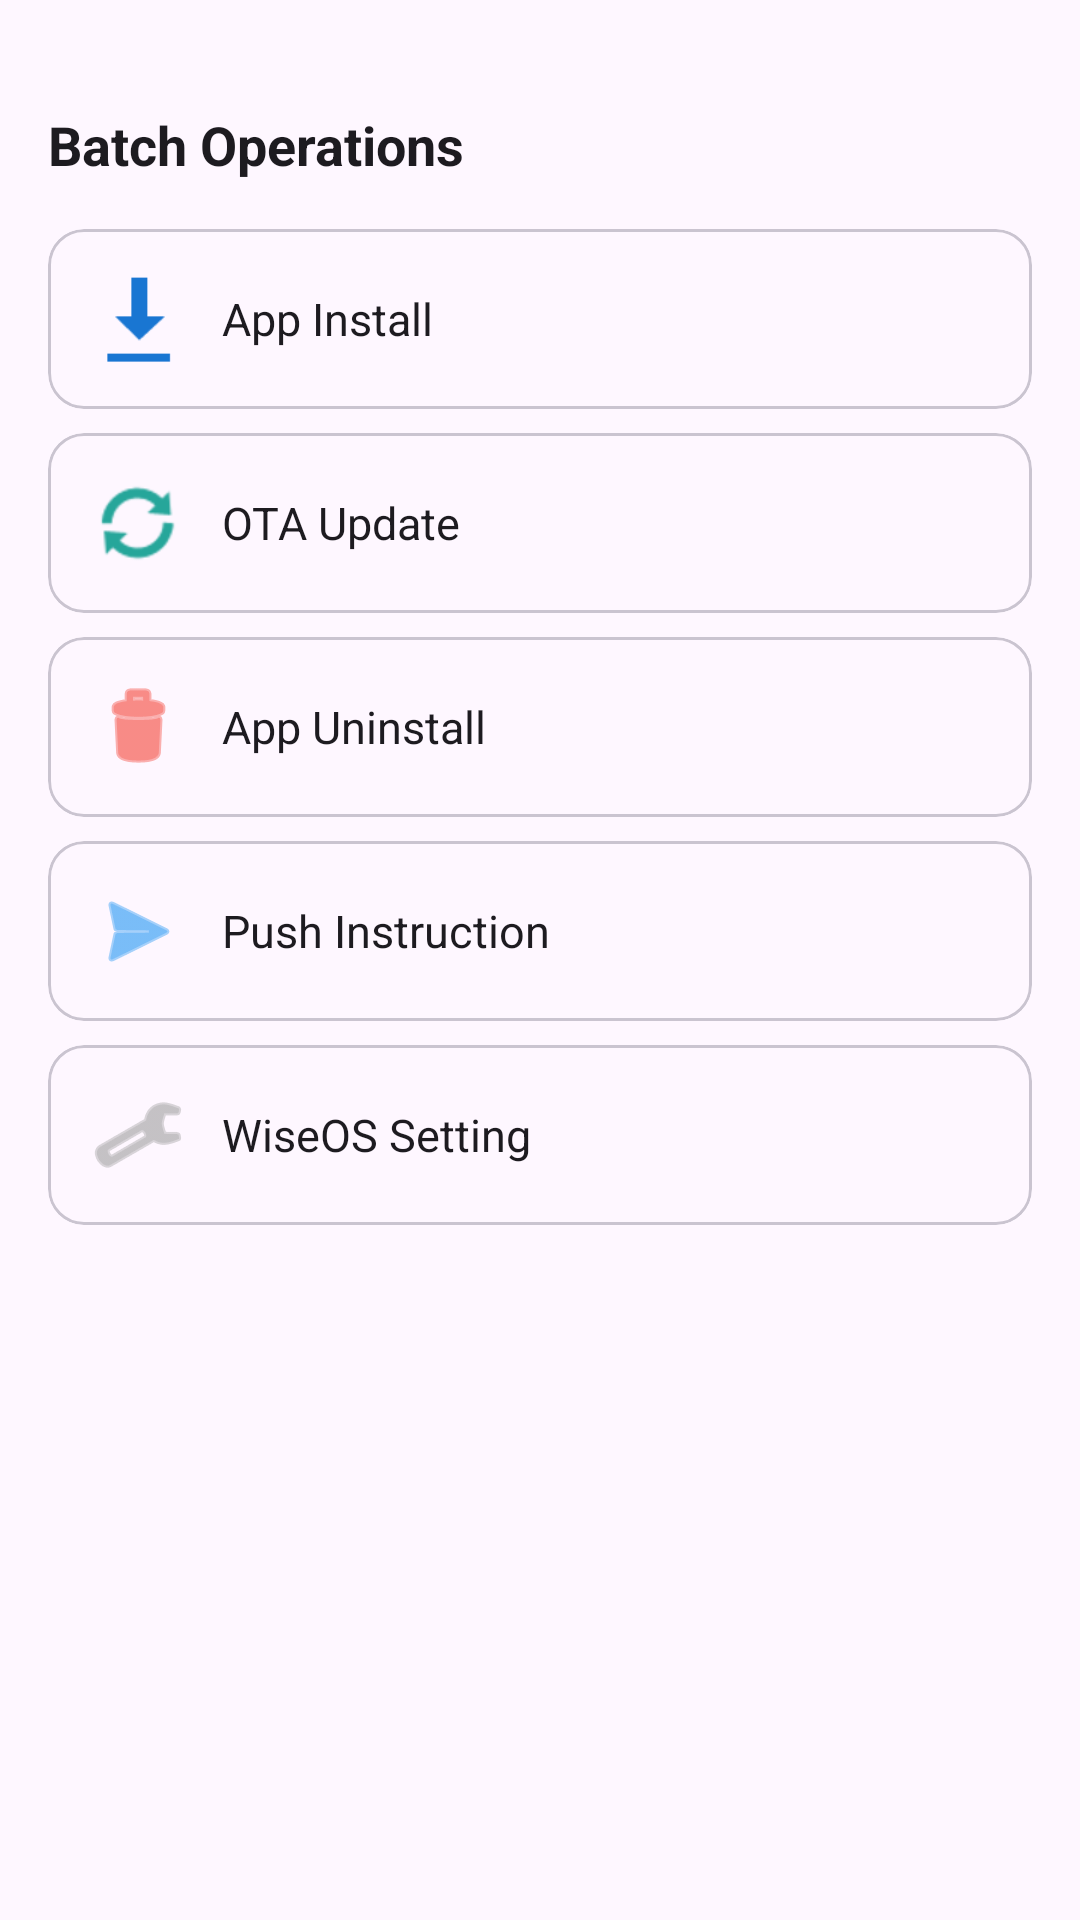

Where icons sit on this 1080w x 1920h app screen, as (left=x1, top=y1, right=x2, bottom=y2):
delete: (left=111, top=688, right=166, bottom=763)
download: (left=107, top=277, right=171, bottom=362)
popup sync: (left=101, top=487, right=175, bottom=559)
preferences: (left=95, top=1102, right=181, bottom=1168)
send: (left=108, top=901, right=170, bottom=962)
